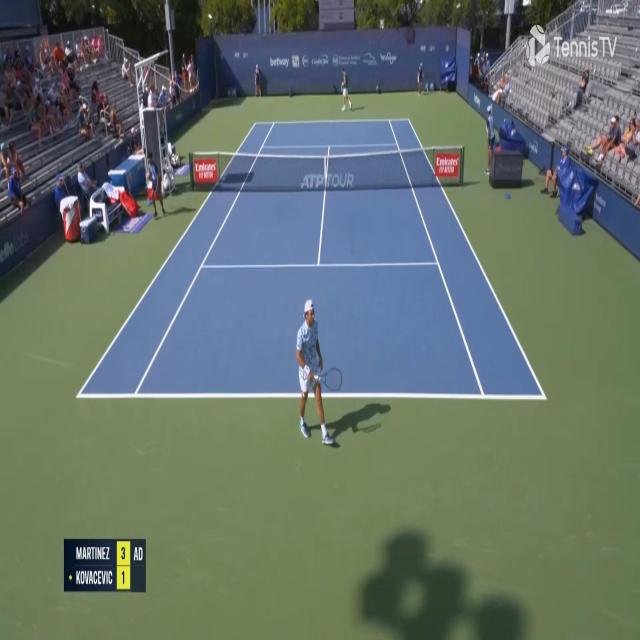tennis-player: (296, 296, 338, 445), (333, 66, 352, 114)
